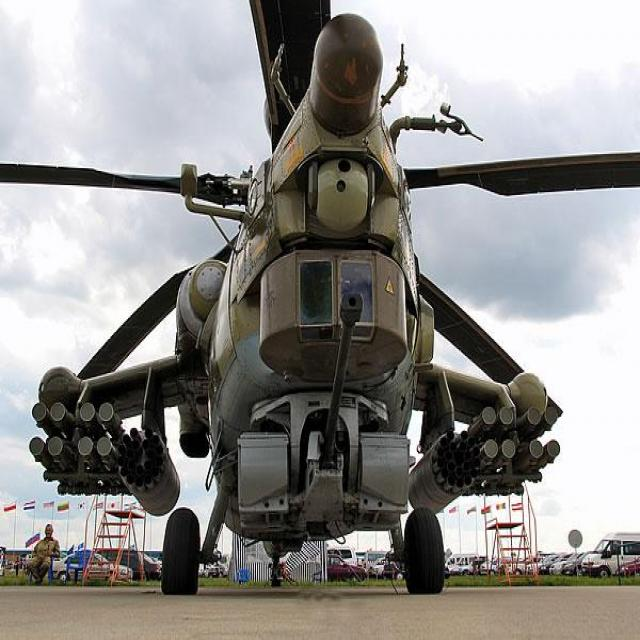MIL_HELO: (9, 0, 640, 599)
